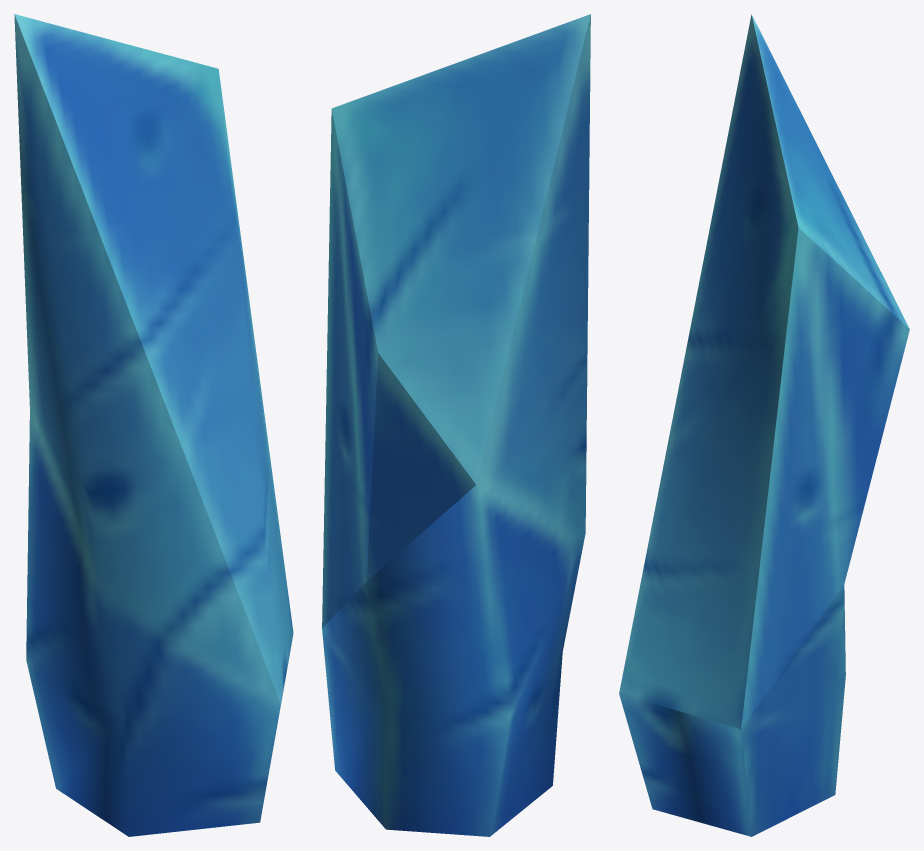
Rendered from crystal_2.fbx.
The picture shows the model from 3 angles, left to right: view 1: azimuth 30°, elevation 25°; view 2: azimuth 150°, elevation 25°; view 3: azimuth 270°, elevation 25°; orthographic projection. The views are drawn at different scales.
Parts seen in each view (by area): view 1: crystal_2; view 2: crystal_2; view 3: crystal_2.
Boxes of the visible parts, <box> form: crystal_2: <box>14,14,293,836</box>; crystal_2: <box>322,14,590,836</box>; crystal_2: <box>619,14,909,836</box>.
Bounding box in the file's own units: 0.3679 × 1.05 × 0.3864.
